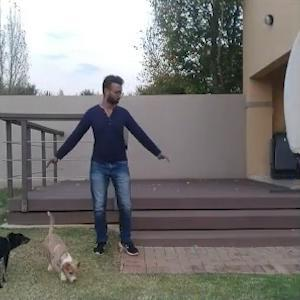land: (51, 88, 192, 248)
